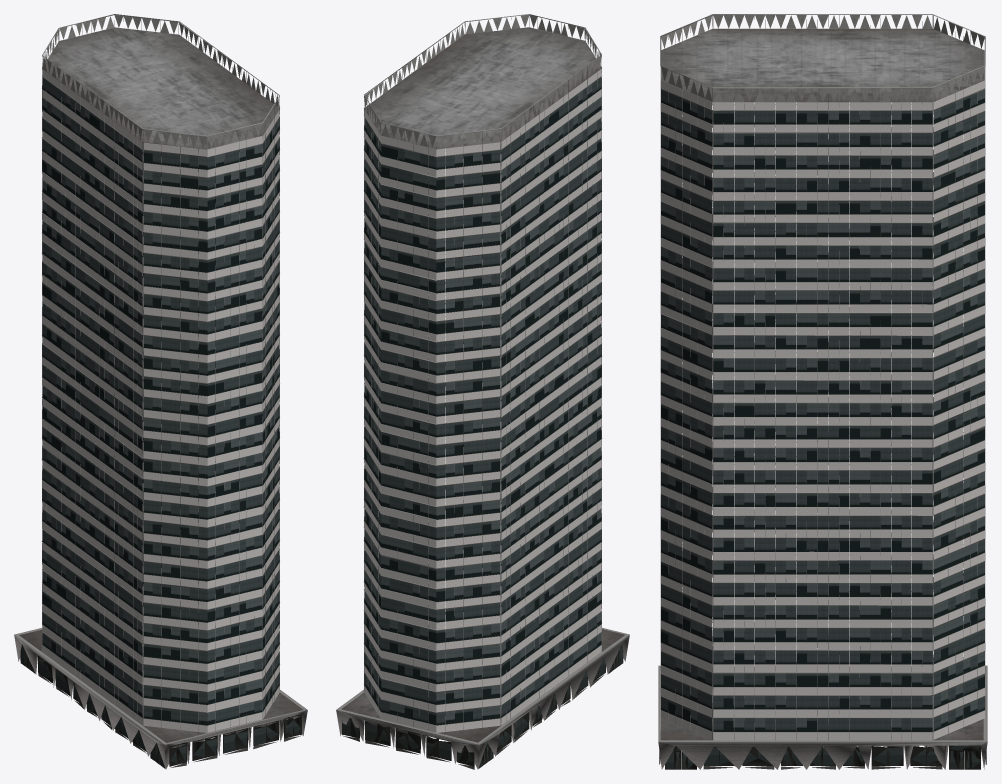
The model's file is brick-office.glb.
3 views of the same model, side by side, from view 1: azimuth 30°, elevation 25°; view 2: azimuth 150°, elevation 25°; view 3: azimuth 270°, elevation 25° (orthographic). The views are drawn at different scales.
Visible parts, largest first — view 1: Brick_office; view 2: Brick_office; view 3: Brick_office.
Boxes of the visible parts, x1,y1,x2,y2 form: Brick_office: [14, 14, 307, 769]; Brick_office: [336, 14, 629, 769]; Brick_office: [658, 14, 987, 769].
Size of the model in its own units: 18.73 by 78.04 by 34.13.
1 material, 1 textured.
